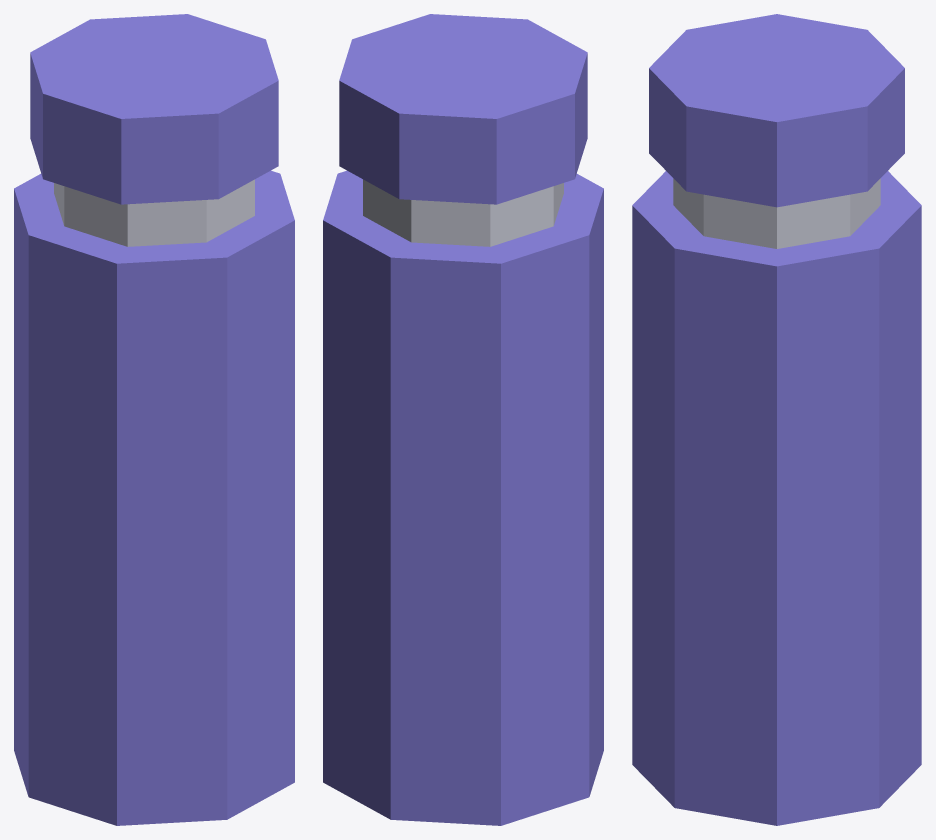
The model's file is thermos.fbx.
3 views of the same model, side by side, from view 1: azimuth 30°, elevation 25°; view 2: azimuth 150°, elevation 25°; view 3: azimuth 270°, elevation 25° (orthographic).
Visible parts, largest first — view 1: Thermos; view 2: Thermos; view 3: Thermos.
Boxes of the visible parts, <box> form: Thermos: <box>14,14,294,825</box>; Thermos: <box>323,14,603,825</box>; Thermos: <box>632,14,921,825</box>.
Bounding box in the file's own units: 18.37 × 48.81 × 18.37.
